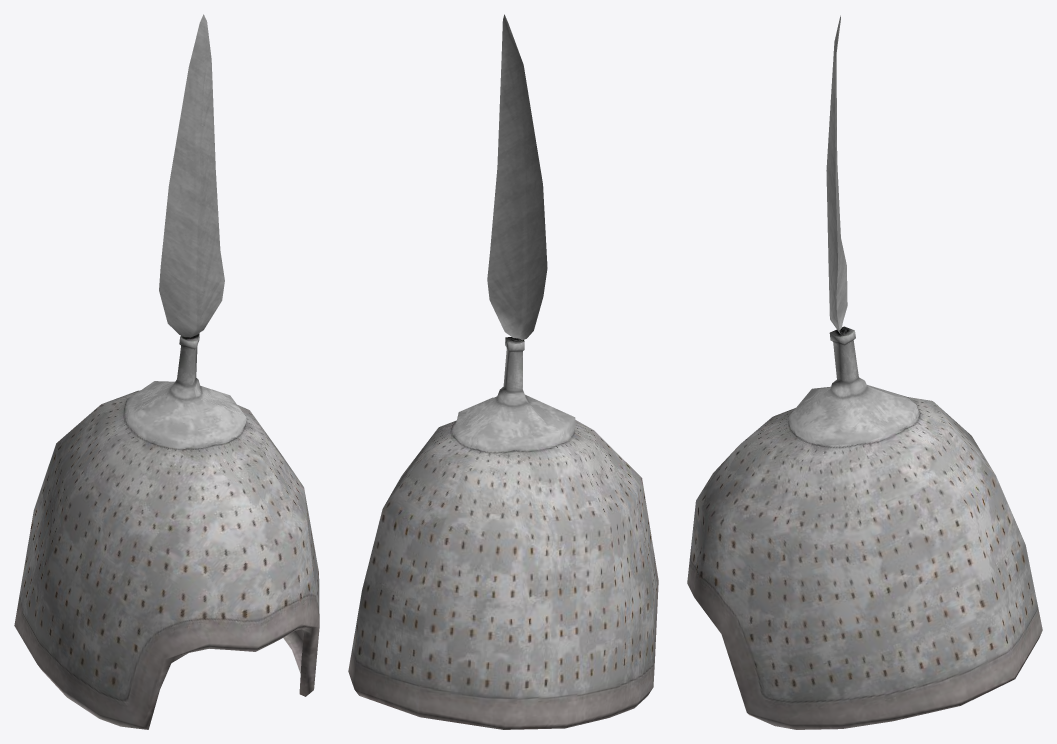
File: rider-helmet-slice-heavyarchers.glb
The picture shows the model from 3 angles, left to right: view 1: azimuth 30°, elevation 25°; view 2: azimuth 150°, elevation 25°; view 3: azimuth 270°, elevation 25°; orthographic projection.
Bounding box in the file's own units: 0.2089 × 0.5509 × 0.2626.
1 material, 1 textured.
